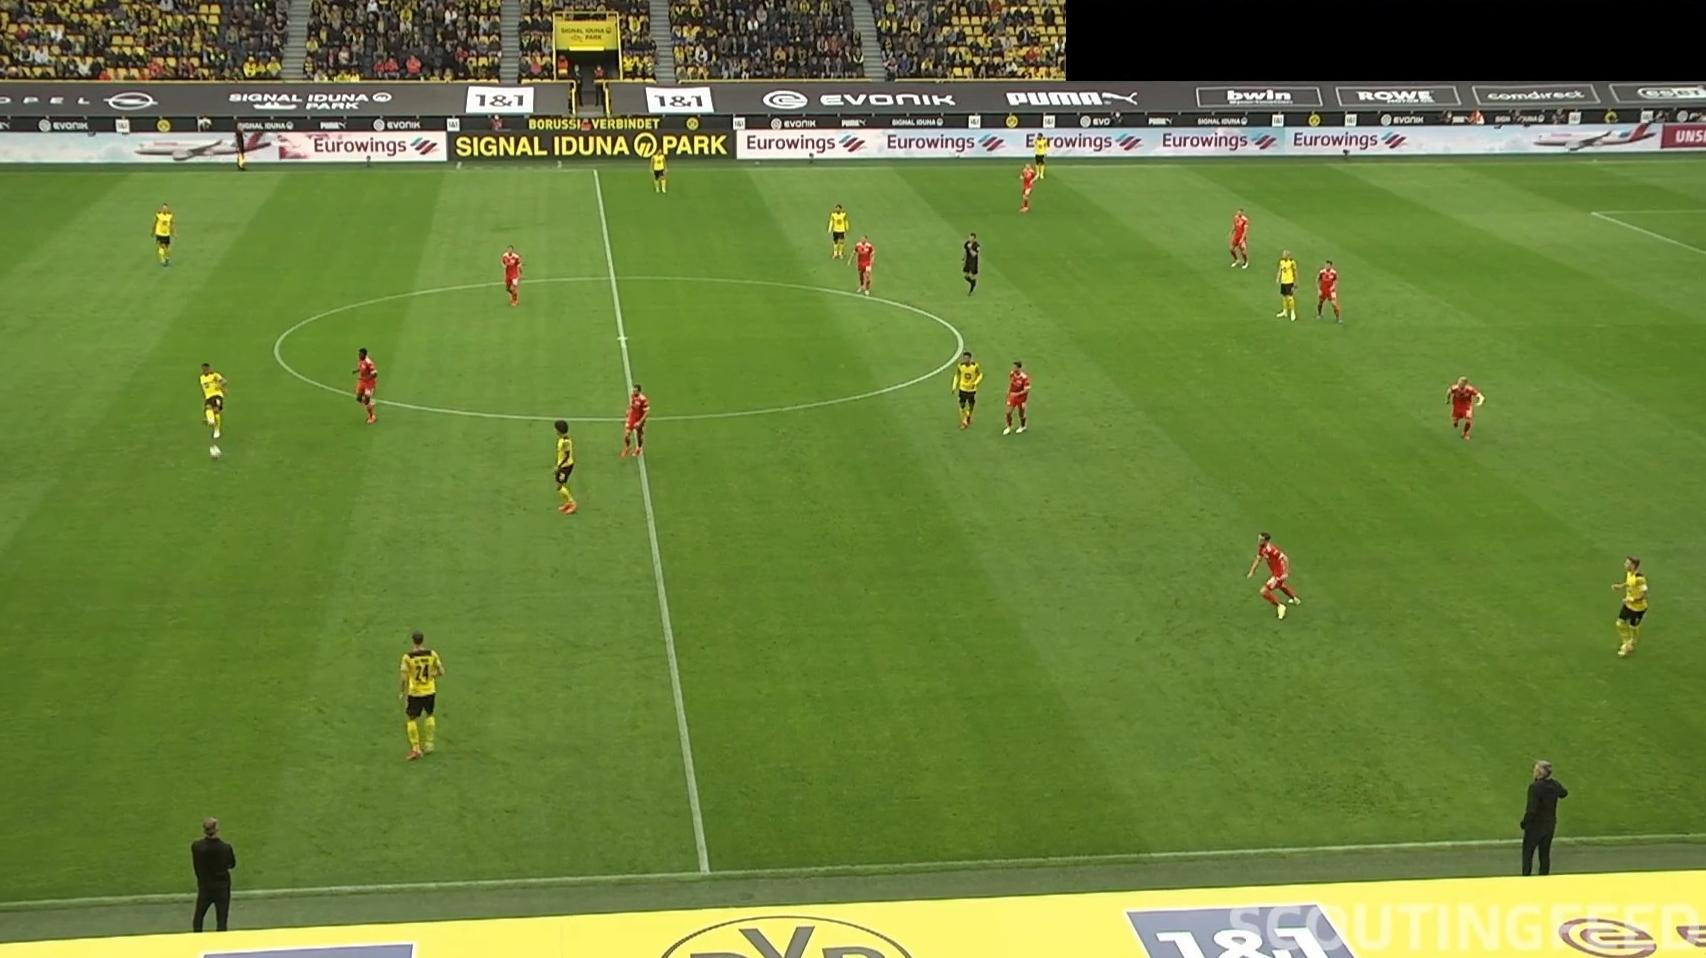ball: (207, 444, 225, 463)
